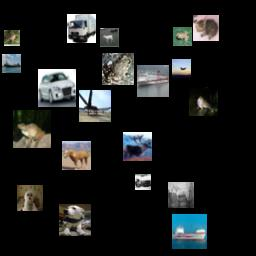airplane: (79, 90, 111, 122), (172, 59, 191, 78)
automobile: (38, 69, 76, 107)
cat: (193, 15, 219, 41)
deer: (123, 132, 152, 161), (100, 28, 119, 47)
dog: (59, 204, 91, 236), (17, 185, 43, 211)
frog: (13, 110, 51, 148), (102, 53, 134, 85), (189, 87, 218, 116), (173, 27, 192, 46), (4, 30, 20, 46)
ship: (172, 214, 207, 249), (137, 65, 169, 97), (2, 54, 21, 73)
truck: (67, 14, 96, 43), (135, 174, 151, 190)
